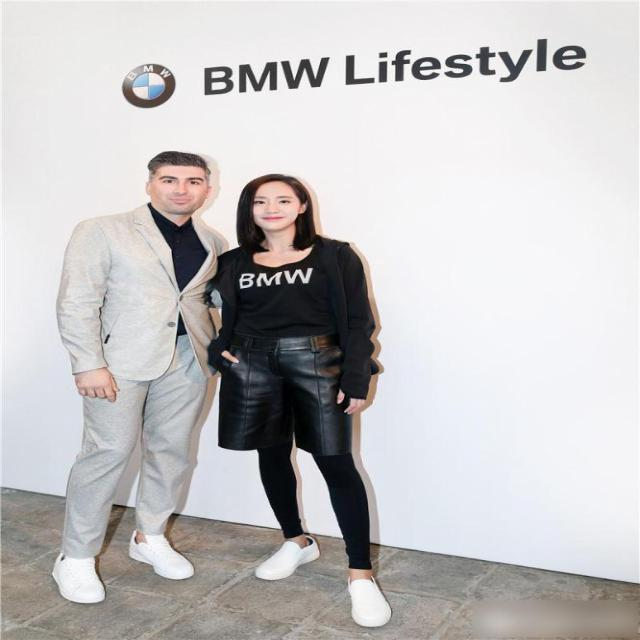Manusia: (208, 172, 442, 633), (61, 142, 229, 609)
